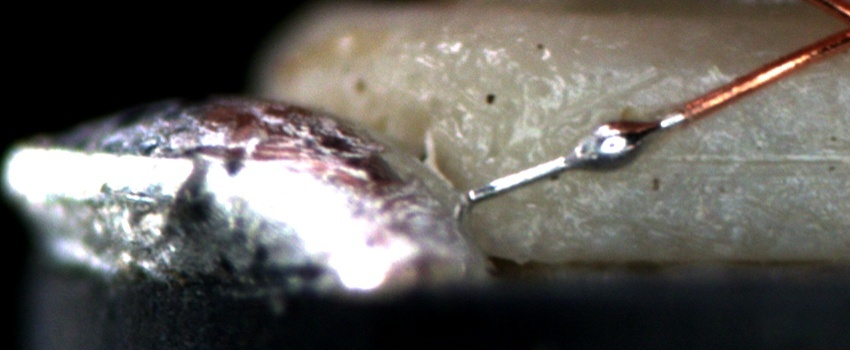CL: (828, 5, 850, 51)
DL: (488, 39, 850, 103), (579, 130, 850, 194)
TB: (575, 115, 657, 177)
TS: (462, 108, 686, 206)
TTCW: (466, 84, 732, 205)
